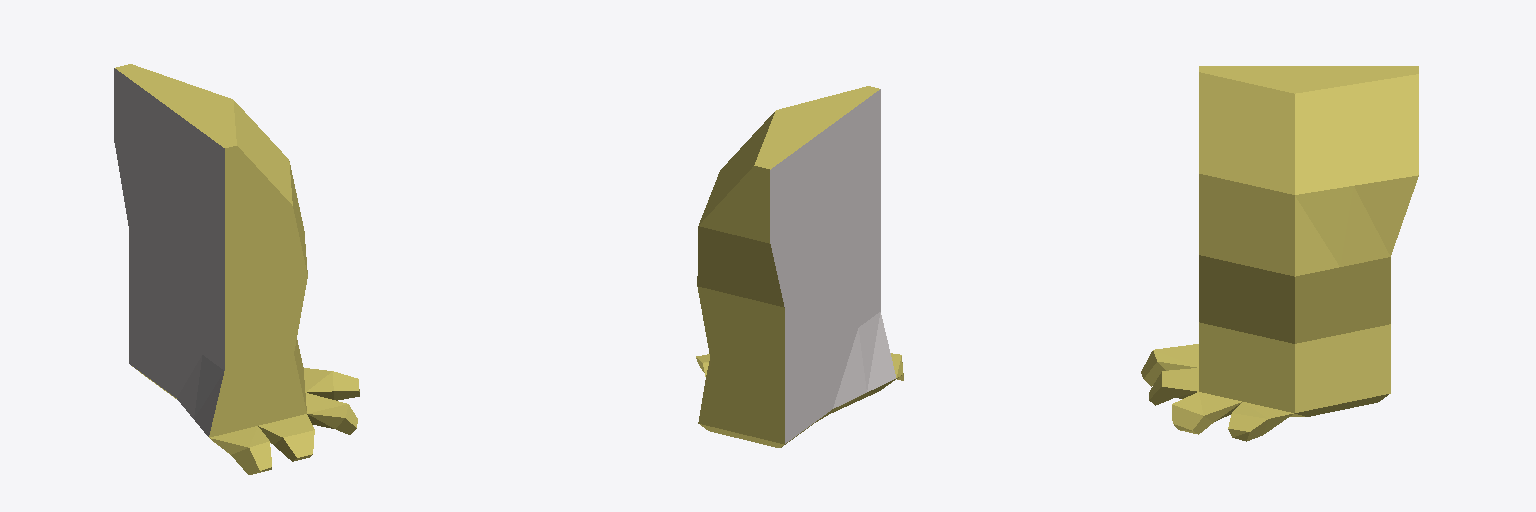
3 views of the same model, side by side, from view 1: azimuth 30°, elevation 25°; view 2: azimuth 150°, elevation 25°; view 3: azimuth 270°, elevation 25° (orthographic).
Visible parts, largest first — view 1: hidariasi; view 2: hidariasi; view 3: hidariasi.
Boxes of the visible parts, box(x1,y1,x2,y2) form: hidariasi: box(114, 64, 359, 474); hidariasi: box(696, 86, 903, 447); hidariasi: box(1141, 66, 1418, 441).
Bounding box in the file's own units: 0.9426 × 1.59 × 1.29.
1 materials, 1 textured.